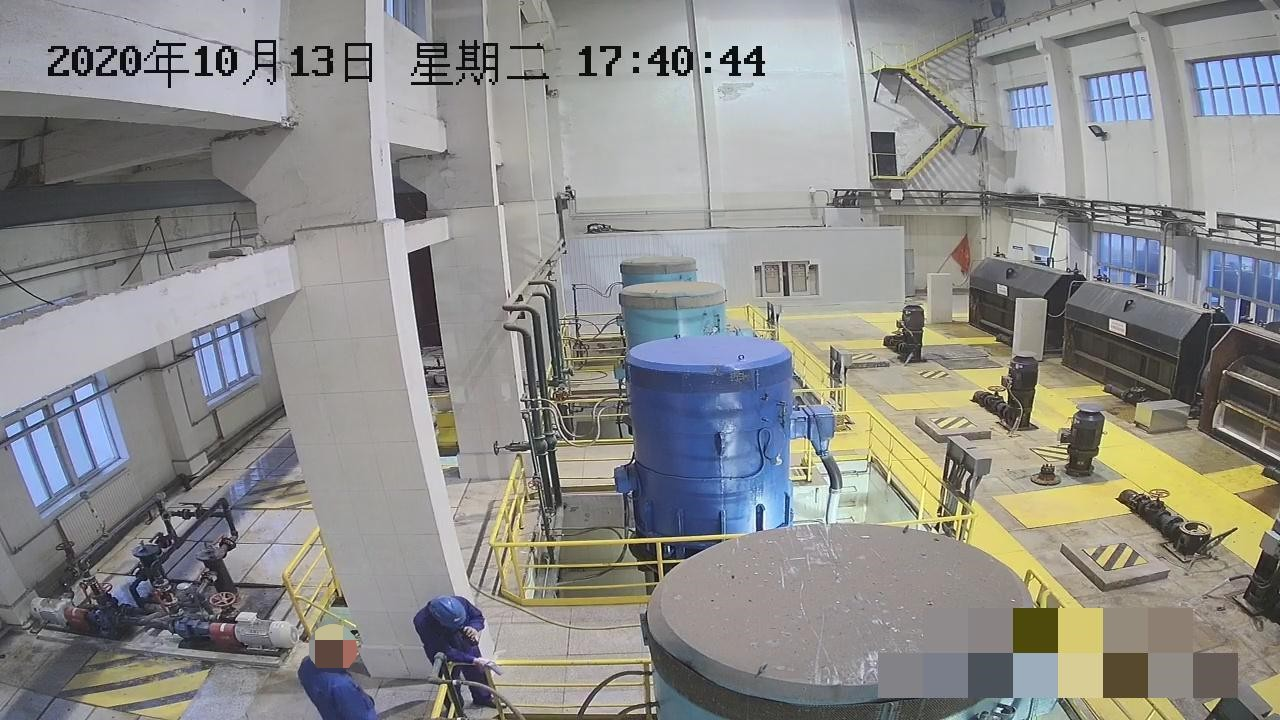hat: (311, 630, 358, 664), (426, 595, 467, 629)
person: (410, 592, 507, 713), (295, 629, 376, 718)
